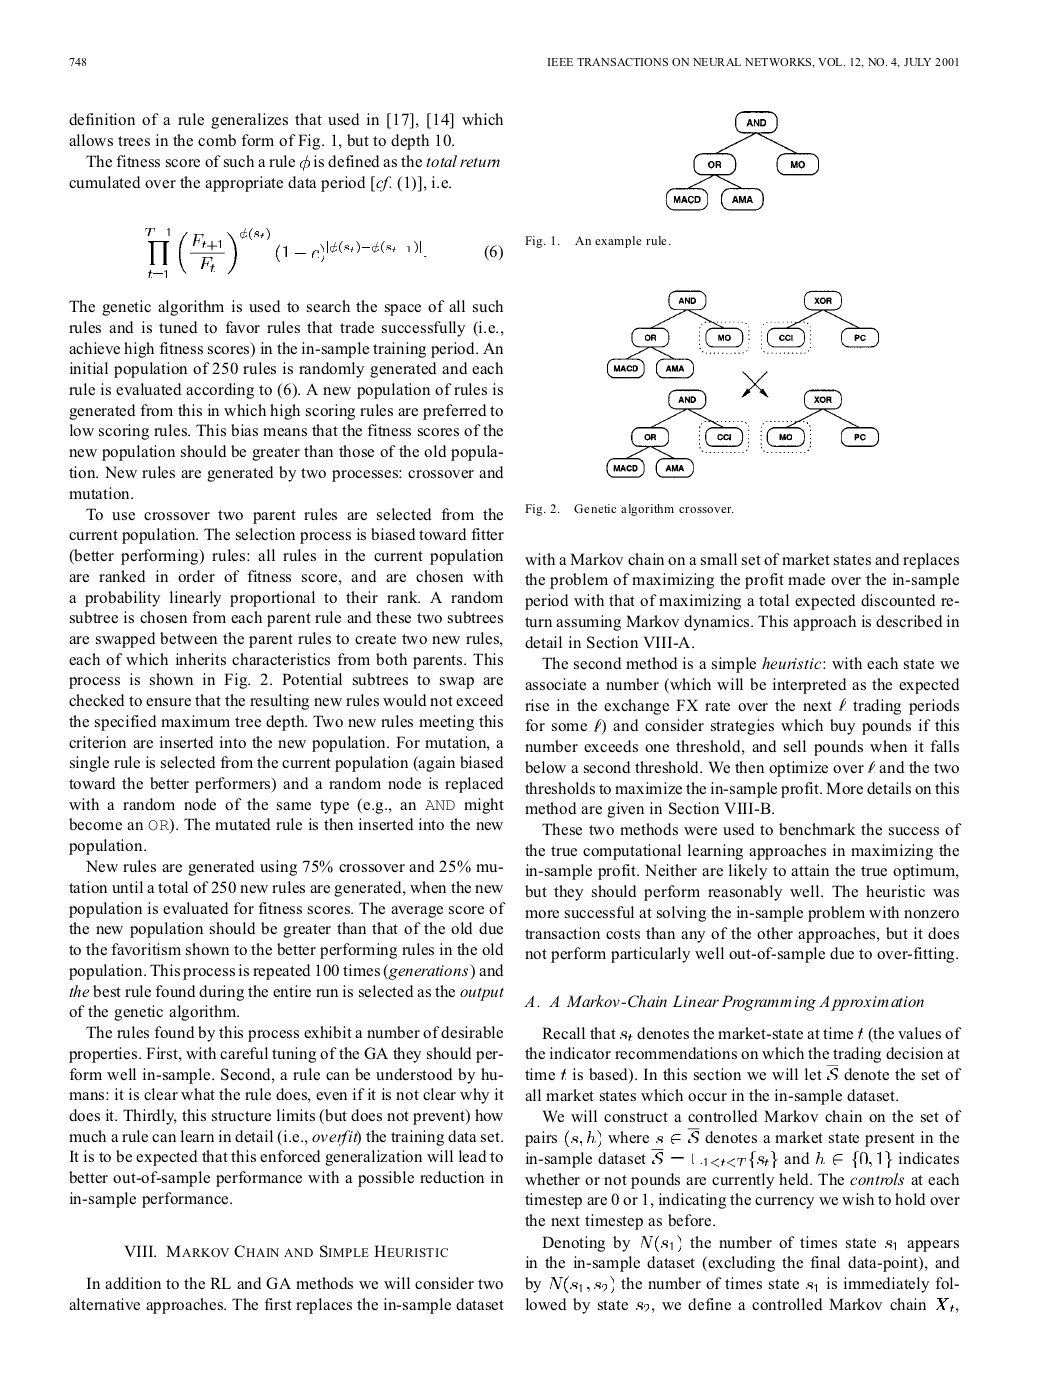figure: (606, 289, 878, 478), (665, 110, 818, 211)
formula: (145, 227, 502, 277)
